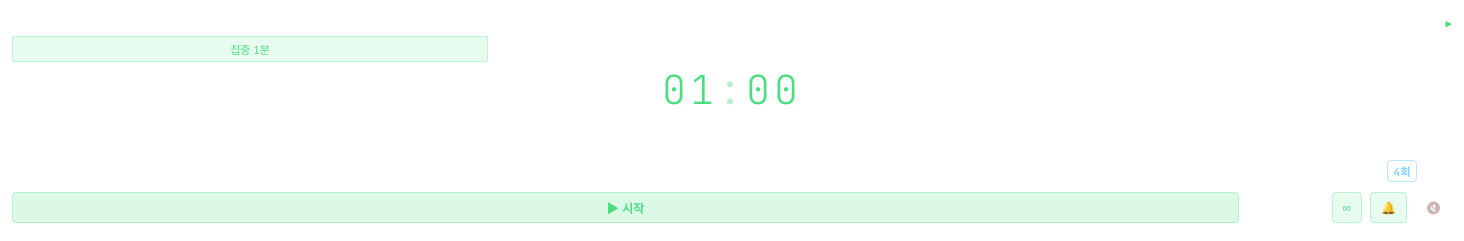
it: PomodoroTimer autoStart phase transitions › should auto-start break phase after focus completes
The width and height of the screenshot is (1464, 241).
// Start the timer (focus phase)
Click the button "▶ 시작" at (625,208), box [12,192,1239,223]
Wait 62000 ms
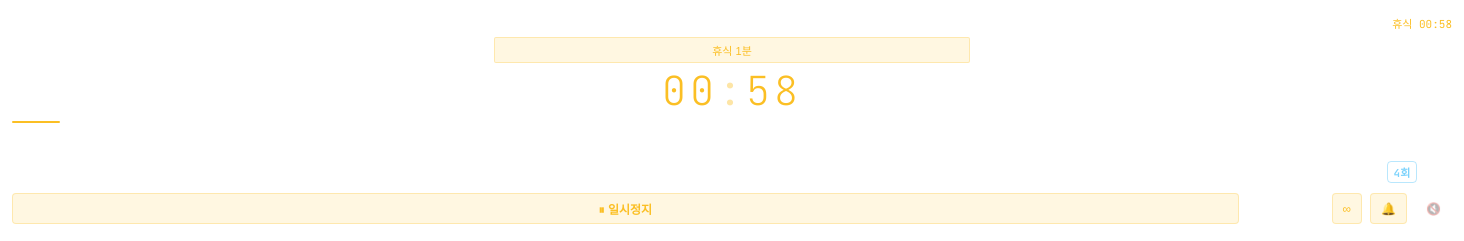
Expected: the button "⏸ 일시정지" is shown, [12,193,1239,224]
Expected: the text "휴식 00:58" is shown, [1392,15,1452,31]
